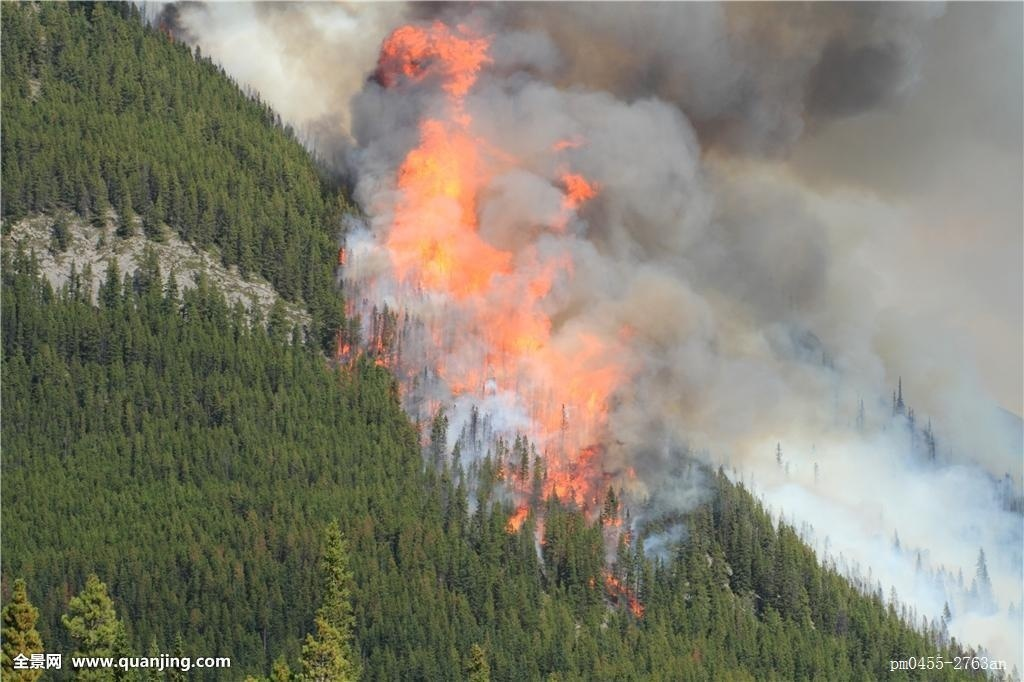fire: (348, 45, 640, 551)
